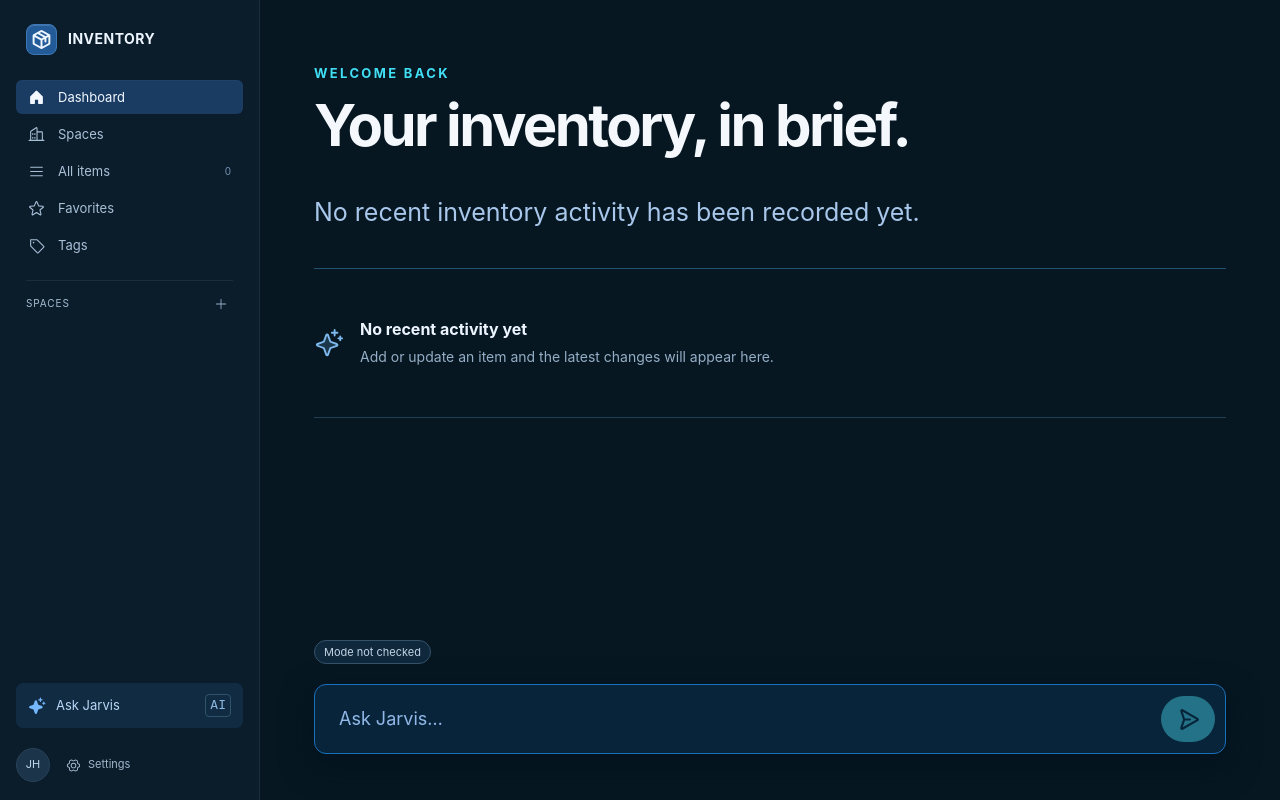
shows saved partial success and failure inline and opens only the item actually saved
Type "Add a tent and torch to my inventory" into the field labelled "Ask Jarvis" at (743, 719), box [337,705,1149,733]
Then press Enter
(page scrolled)
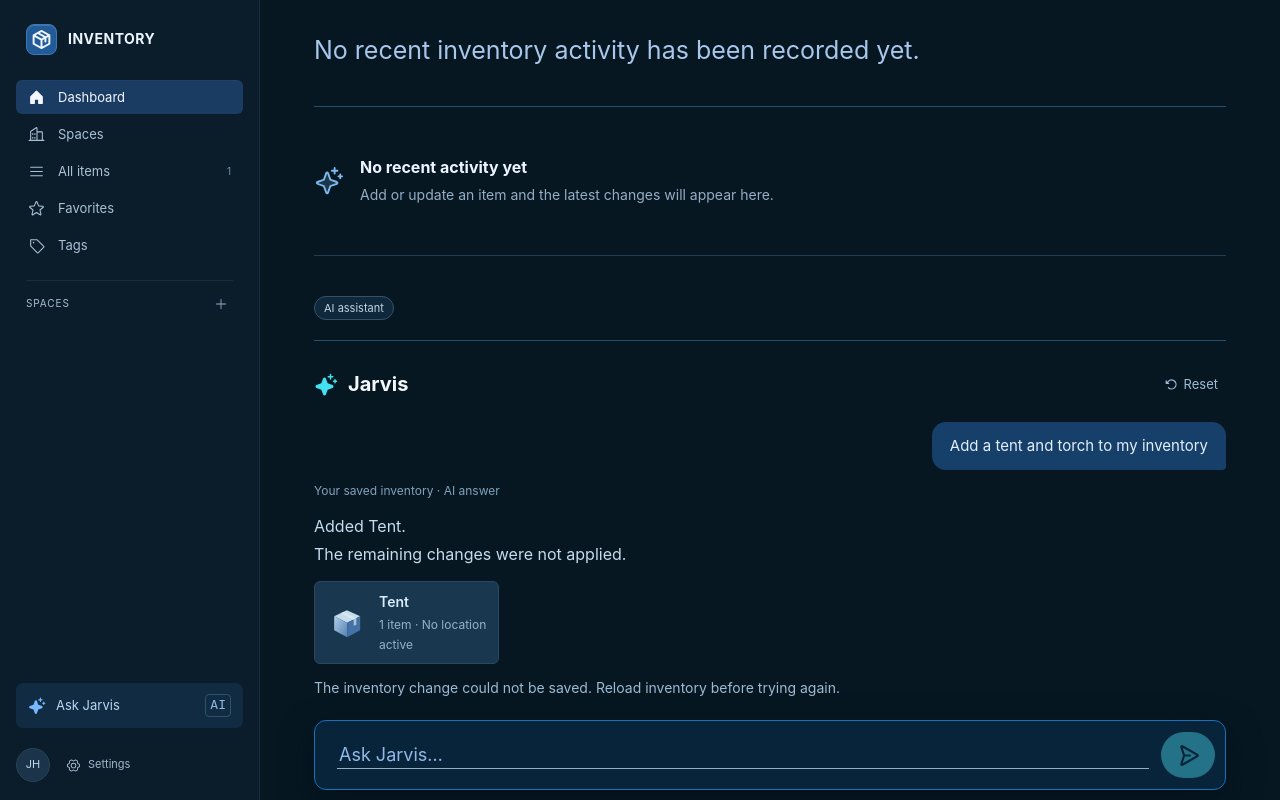
Expected: the text "Added Tent. The remaining changes were not applied." is shown, [314,516,626,564]
Expected: the text "could not be saved" is shown, [314,679,840,696]
Click the button with aria-label "Open Tent" at (407, 623), box [314,581,499,664]
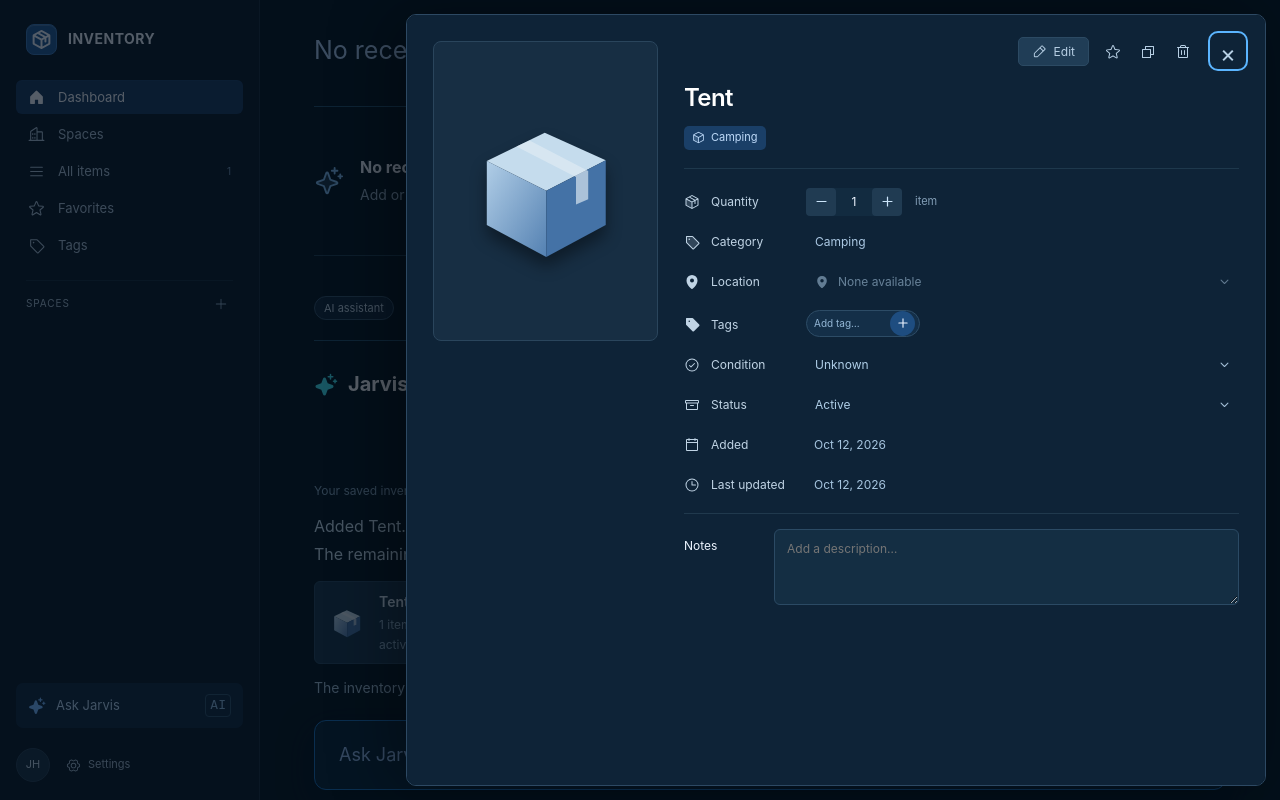
Expected: the field named "Item name" holds "Tent", [684,81,1239,116]
Press Escape
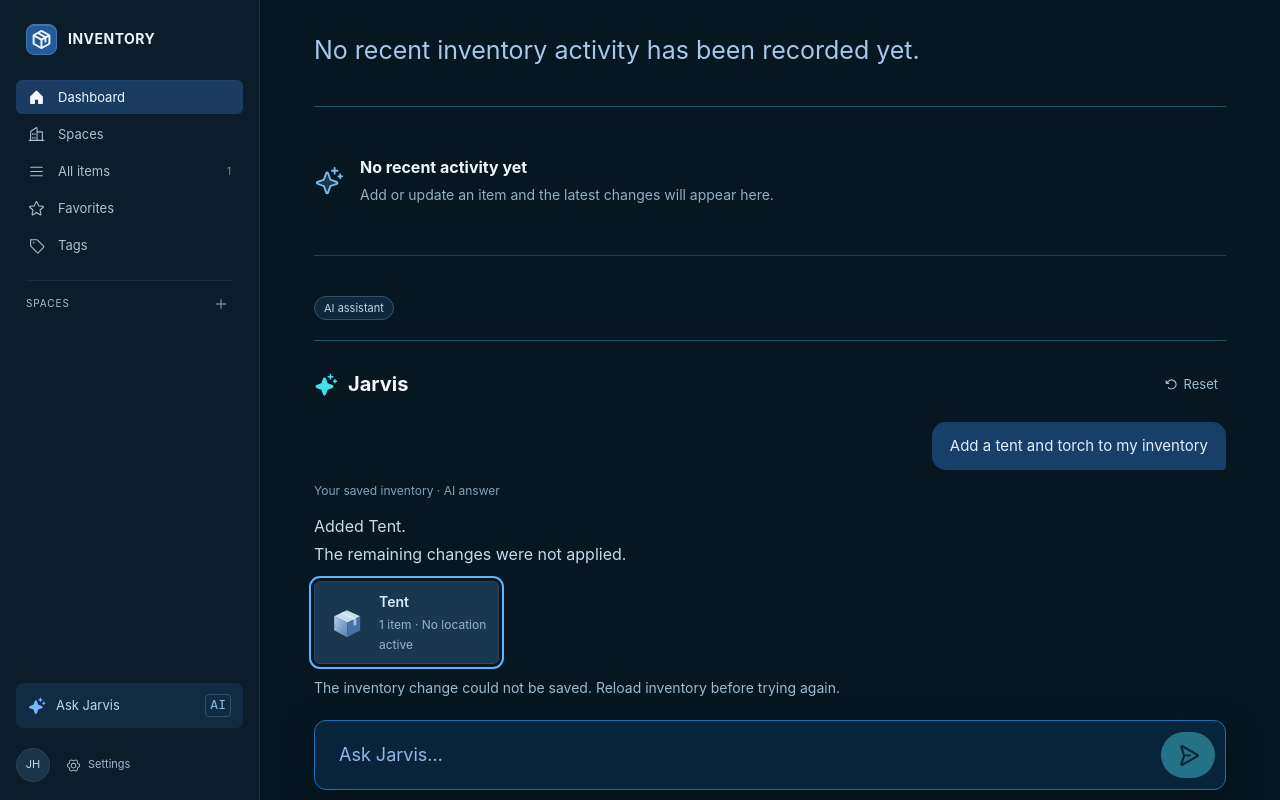
Click the button "All items 1" at (130, 171), box [16,154,243,188]
(page scrolled)
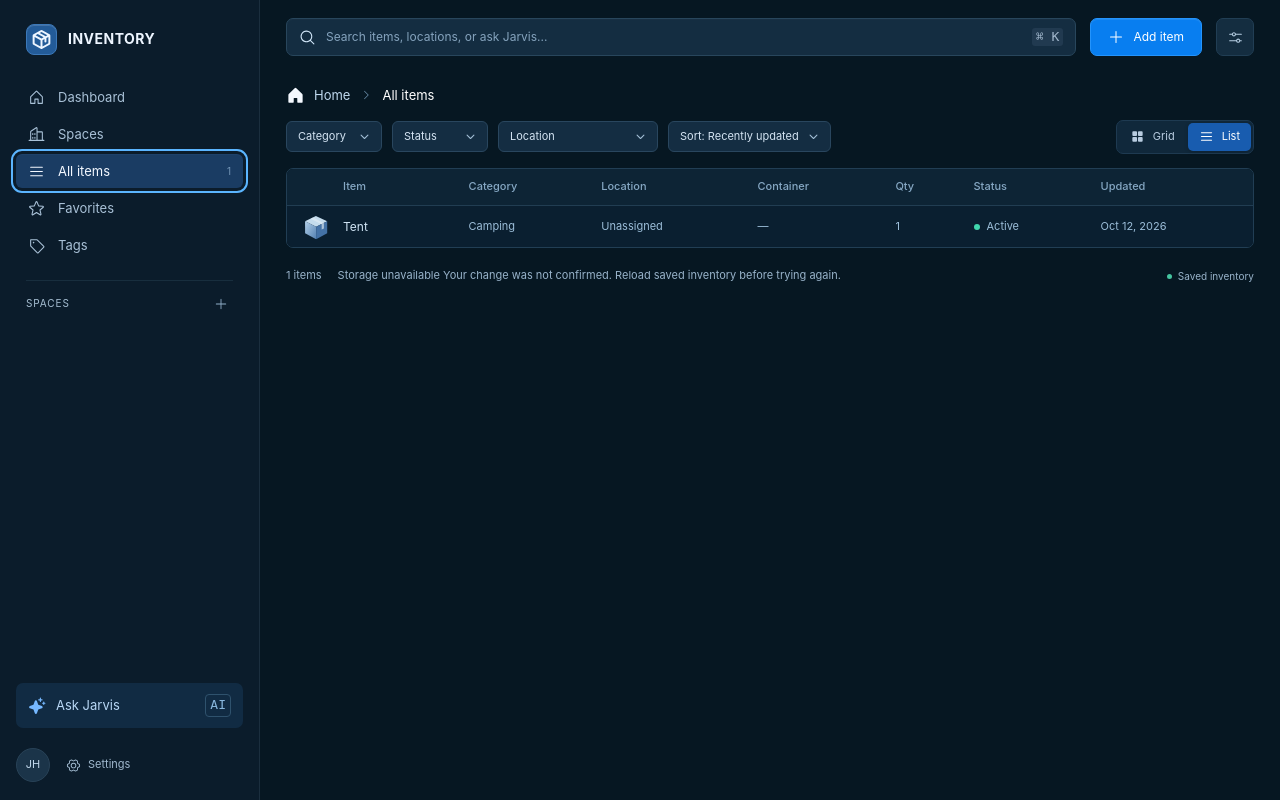
Expected: the button with aria-label "View Tent" is shown, [299,210,445,244]
Click the button "Dashboard" at (130, 97), box [16,80,243,114]
(page scrolled)
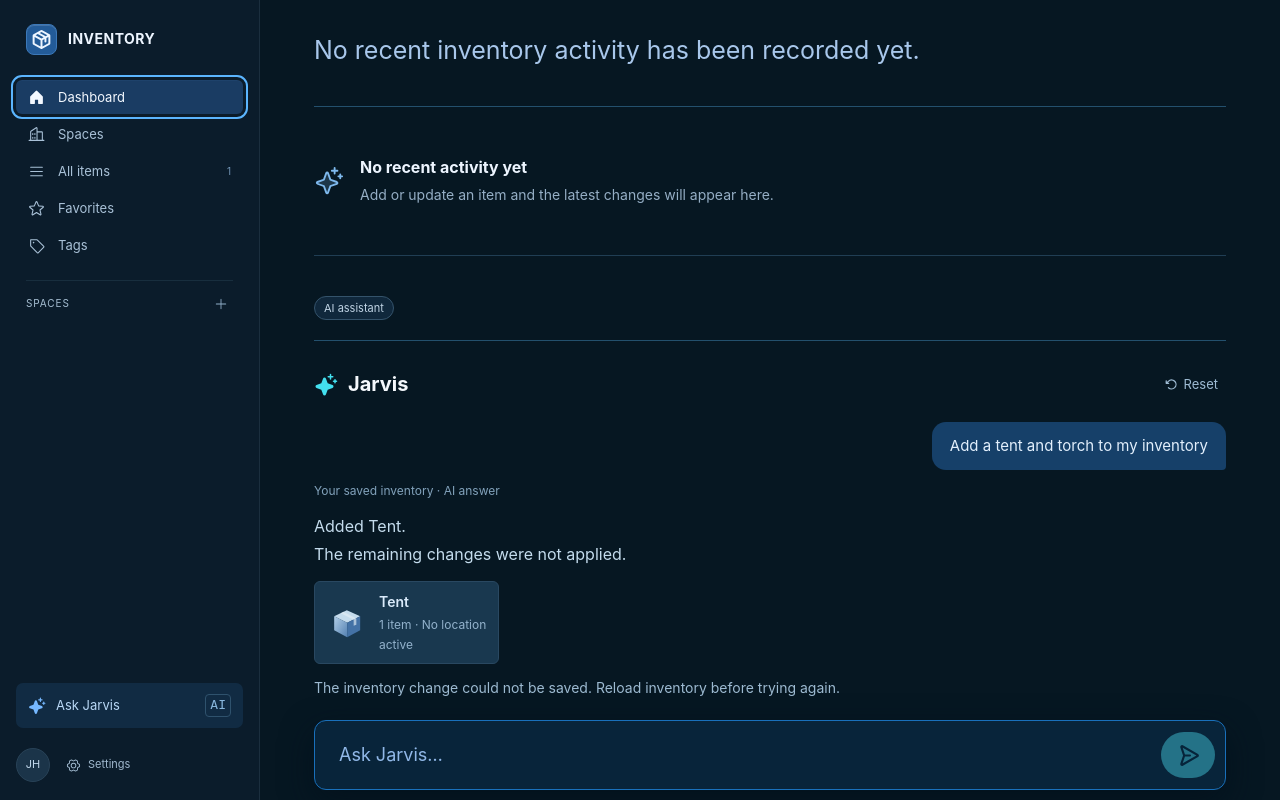
Expected: the text "Added Tent. The remaining changes were not applied." is shown, [314,516,626,564]
